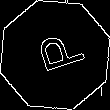P_W: (26, 29, 84, 81)
